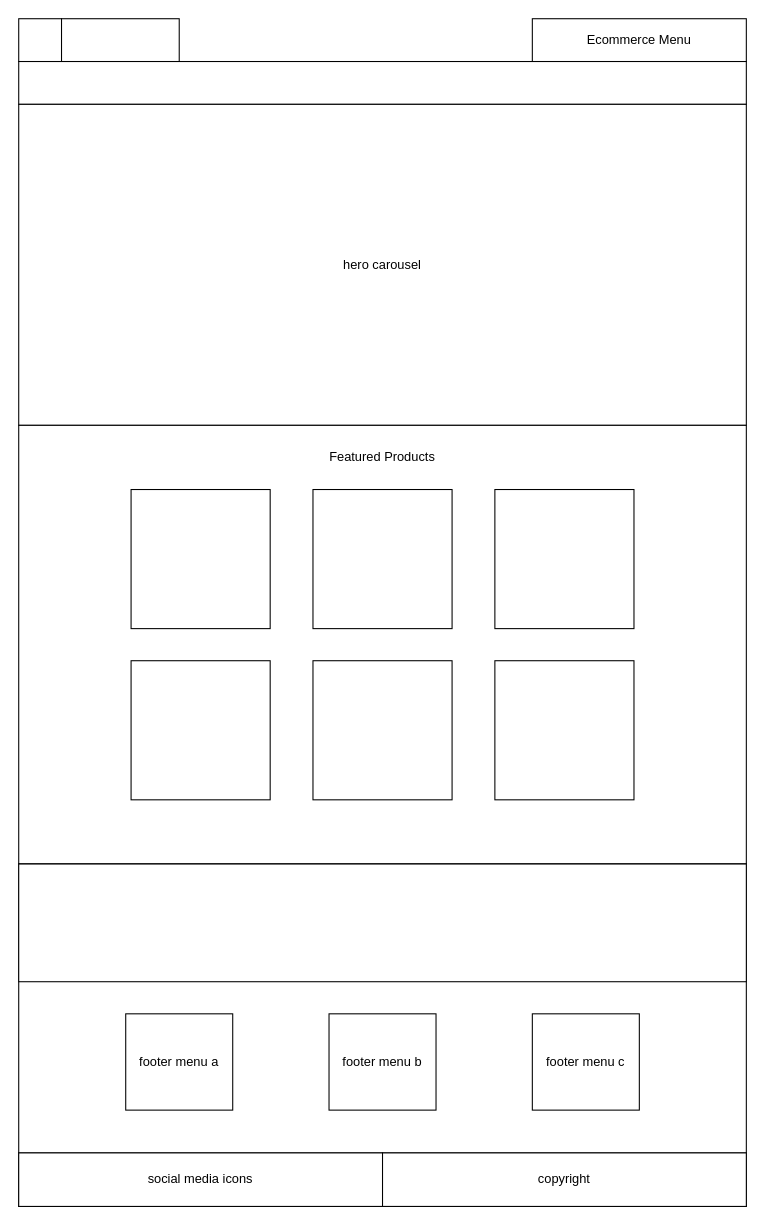
The diagram is 765 pixels wide and 1225 high, and some of its shapes have lost their labels. Each missing label, with the centre of its shape:
"Logo" belongs at (x=40, y=40).
"site navigation" belongs at (x=382, y=82).
"Site Title" belongs at (x=119, y=40).
"widget area" belongs at (x=382, y=922).
